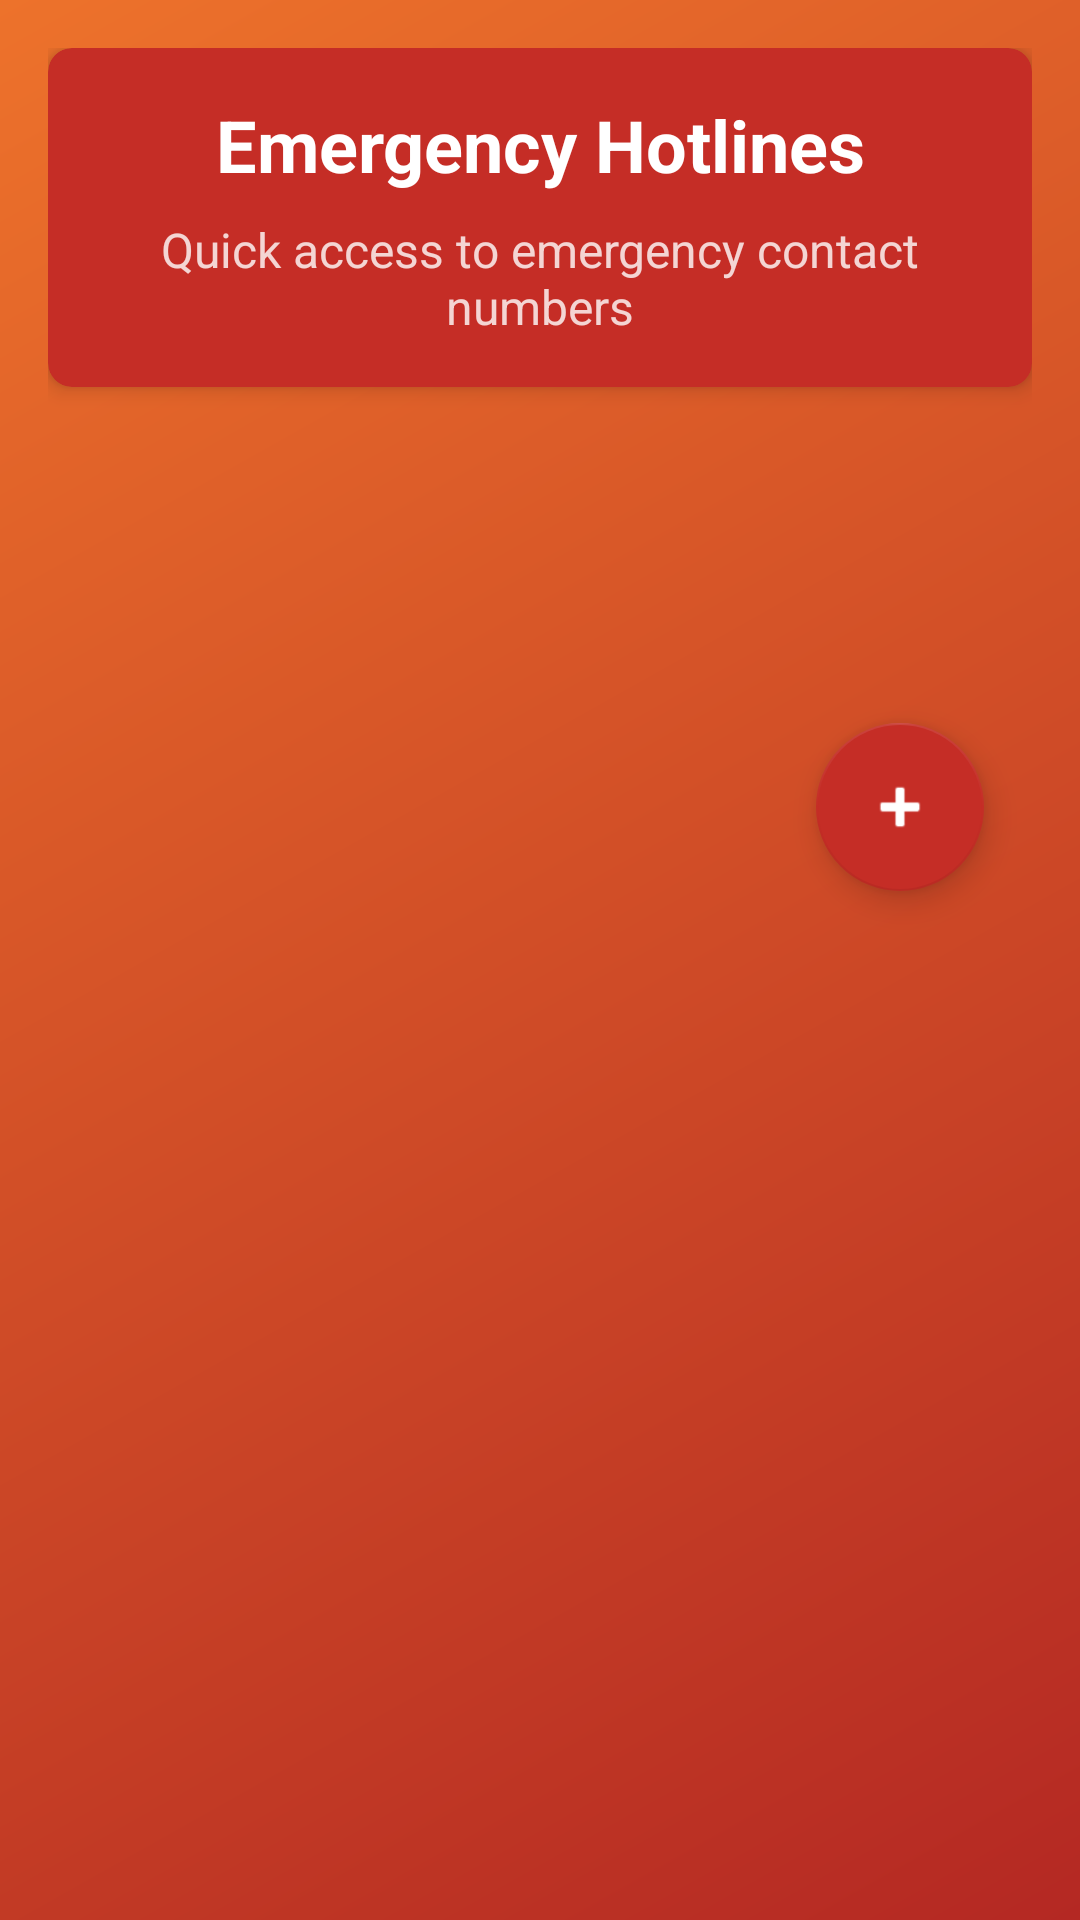

Point at icon controls on the screen. Image size 1080×1920, points as point (x, y).
Add new hotline: point (900, 807)
